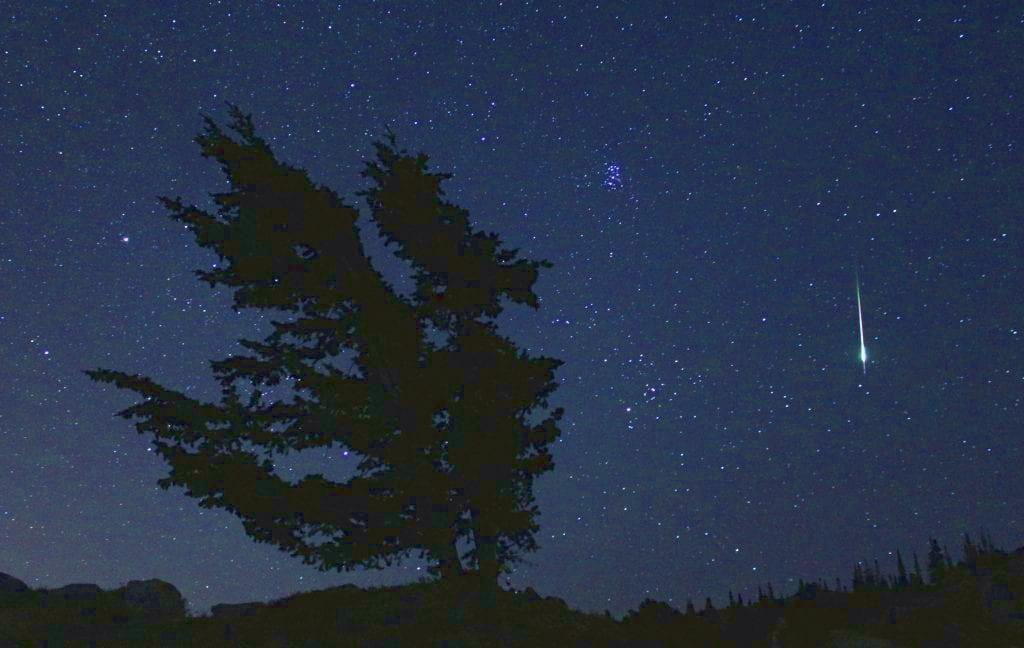meteorite: (840, 250, 878, 384)
